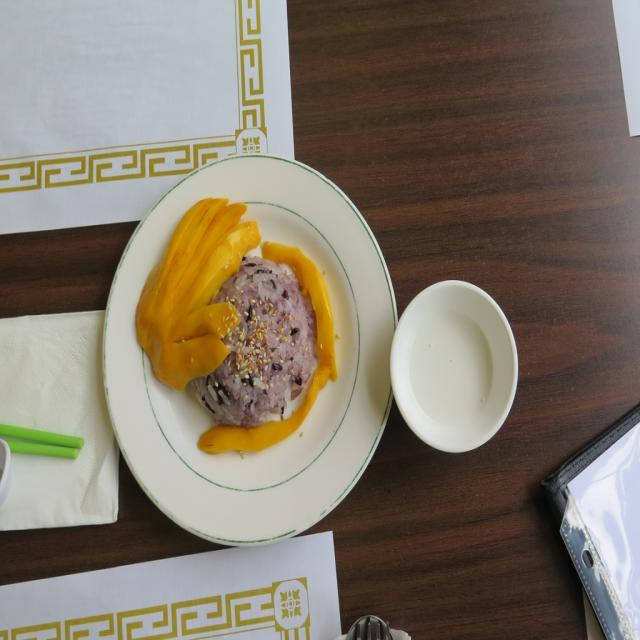non-organic waste: (100, 145, 394, 572)
